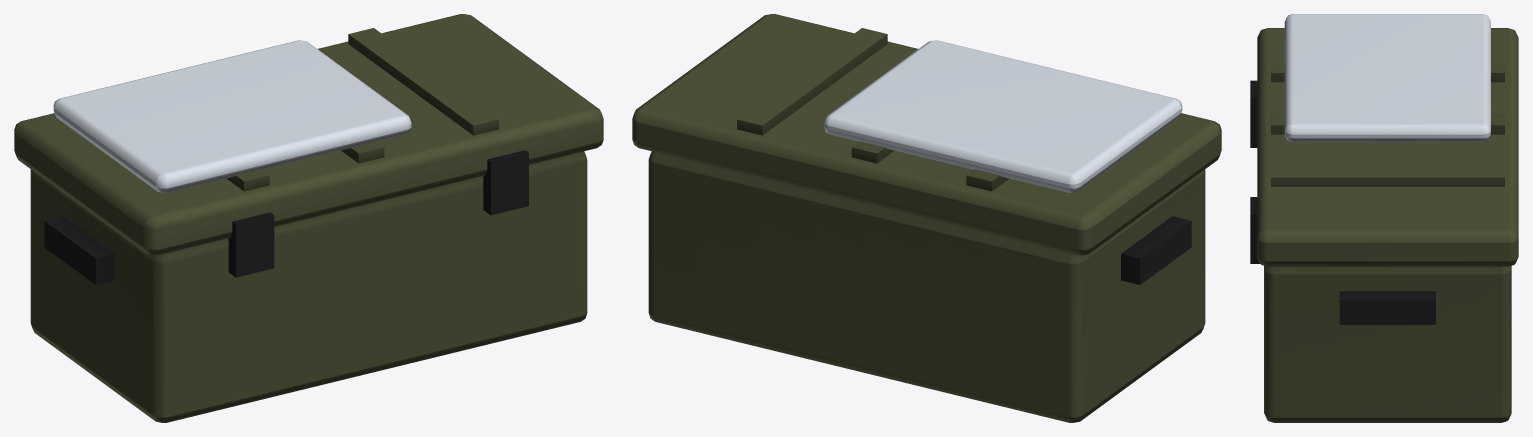
File: ammo_case.glb
The picture shows the model from 3 angles, left to right: view 1: azimuth 30°, elevation 25°; view 2: azimuth 150°, elevation 25°; view 3: azimuth 270°, elevation 25°; orthographic projection. The views are drawn at different scales.
Visible parts, largest first — view 1: AmmoCase; view 2: AmmoCase; view 3: AmmoCase.
Part boxes in pixels (x1=…): AmmoCase: x1=14, y1=14, x2=603, y2=422; AmmoCase: x1=632, y1=14, x2=1221, y2=422; AmmoCase: x1=1250, y1=14, x2=1518, y2=422.
Bounding box in the file's own units: 0.75 × 0.36 × 0.39.
